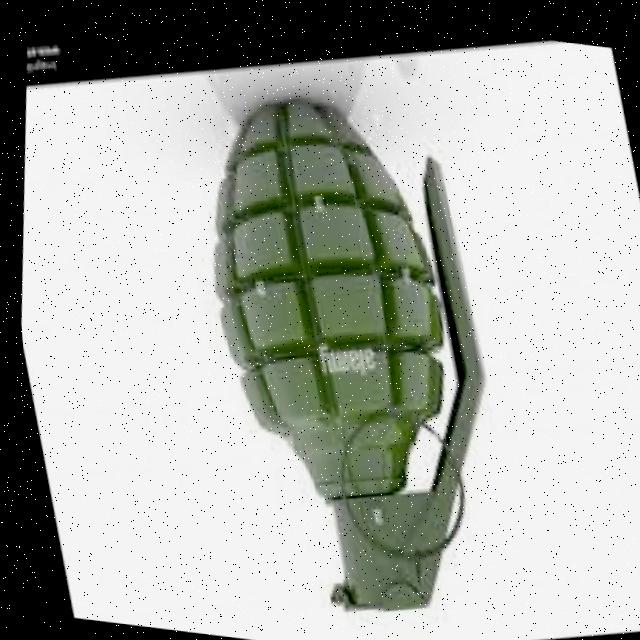grenade: (126, 34, 560, 639)
